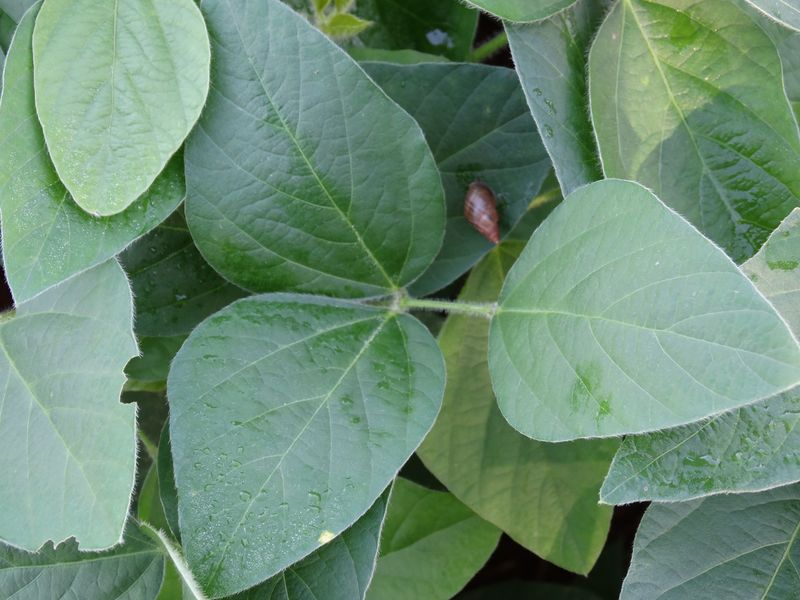Gastropoda: (447, 175, 513, 255)
